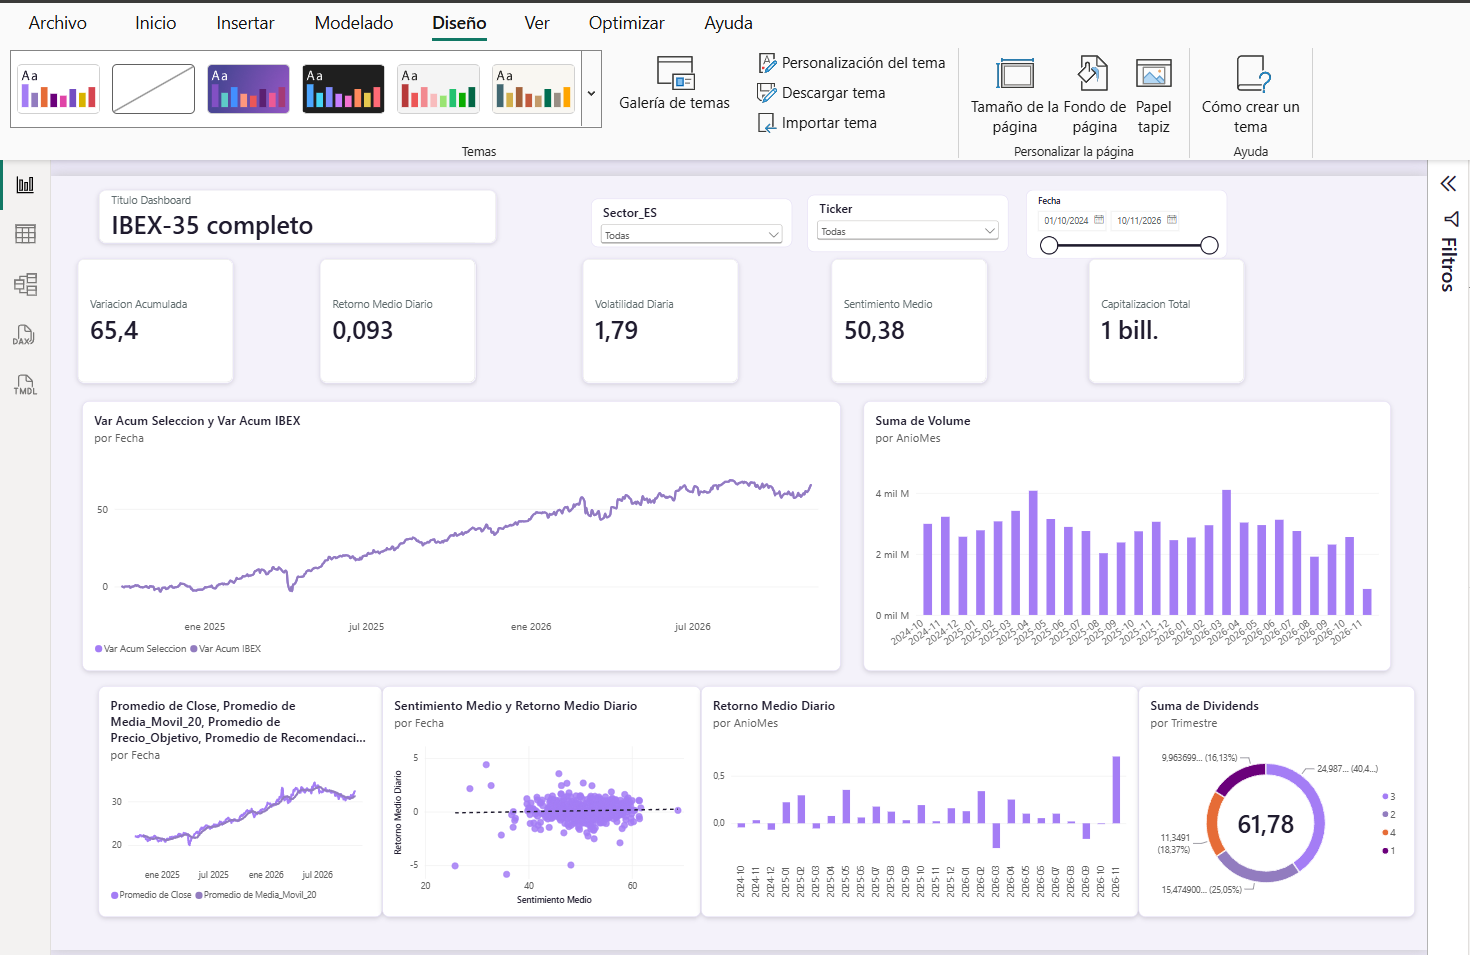

Layout of this report page (visuals, bound fields, positions):
{"tool":"powerbi","page":{"name":"Dashboard","canvas":[1920,1080],"ordinal":3},"visuals":[{"type":"slicer","fields":{"Values":["Empresa.Sector_ES"]},"box":[753.5,31.4,280.8,68],"z":0},{"type":"slicer","fields":{"Values":["Empresa.Ticker"]},"box":[1055.2,26.2,280.8,80.2],"z":1000},{"type":"slicer","fields":{"Values":["Fecha.Fecha"]},"box":[1360.5,19.2,280.8,95.9],"z":2000},{"type":"cardVisual","fields":{"Data":["Hechos.Variacion Acumulada"]},"box":[36.6,115.1,218,174.4],"z":3000},{"type":"cardVisual","fields":{"Data":["Hechos.Retorno Medio Diario"]},"box":[375,115.1,218,174.4],"z":4000},{"type":"cardVisual","fields":{"Data":["Hechos.Volatilidad Diaria"]},"box":[741.3,115.1,218,174.4],"z":5000},{"type":"cardVisual","fields":{"Data":["Hechos.Sentimiento Medio"]},"box":[1088.4,115.1,218,174.4],"z":6000},{"type":"cardVisual","fields":{"Data":["Hechos.Capitalizacion Total"]},"box":[1447.7,115.1,218,174.4],"z":7000},{"type":"lineChart","fields":{"Category":["Fecha.Fecha"],"Y":["Hechos.Var Acum Seleccion","Hechos.Var Acum IBEX"]},"box":[43.6,314,1058.7,376.7],"z":8000},{"type":"clusteredColumnChart","fields":{"Category":["Fecha.AnioMes"],"Y":["Sum(Hechos.Volume)"]},"box":[1133.7,314,736,376.7],"z":9000},{"type":"lineChart","fields":{"Category":["Fecha.Fecha"],"Y":["Avg(Hechos.Close)","Avg(Hechos.Media_Movil_20)"]},"box":[66.3,711.6,395.9,322.7],"z":10000},{"type":"scatterChart","fields":{"Category":["Fecha.Fecha"],"X":["Hechos.Sentimiento Medio"],"Y":["Hechos.Retorno Medio Diario"]},"box":[462.2,711.6,444.8,322.7],"z":11000},{"type":"clusteredColumnChart","fields":{"Category":["Fecha.AnioMes"],"Y":["Hechos.Retorno Medio Diario"]},"box":[907,711.6,610.5,322.7],"z":12000},{"type":"donutChart","fields":{"Category":["Fecha.Trimestre"],"Y":["Sum(Hechos.Dividends)"]},"box":[1517.4,711.6,385.5,322.7],"z":13000},{"type":"cardVisual","fields":{"Data":["Hechos.Titulo Dashboard"]},"box":[66.3,19.2,556.4,75],"z":13001}]}

Visuals, with their boxes on the page's 1920x1080 design canvas (x1, y1, x2, y2). These are canvas units, not pixel positions in the 1470x955 screenshot, which may show the page scaled, cropped or inside an application window:
slicer - Empresa.Sector_ES: left=754, top=31, right=1034, bottom=99
slicer - Empresa.Ticker: left=1055, top=26, right=1336, bottom=106
slicer - Fecha.Fecha: left=1360, top=19, right=1641, bottom=115
cardVisual - Hechos.Variacion Acumulada: left=37, top=115, right=255, bottom=290
cardVisual - Hechos.Retorno Medio Diario: left=375, top=115, right=593, bottom=290
cardVisual - Hechos.Volatilidad Diaria: left=741, top=115, right=959, bottom=290
cardVisual - Hechos.Sentimiento Medio: left=1088, top=115, right=1306, bottom=290
cardVisual - Hechos.Capitalizacion Total: left=1448, top=115, right=1666, bottom=290
lineChart - Fecha.Fecha x Hechos.Var Acum Seleccion: left=44, top=314, right=1102, bottom=691
clusteredColumnChart - Fecha.AnioMes x Sum(Hechos.Volume): left=1134, top=314, right=1870, bottom=691
lineChart - Fecha.Fecha x Avg(Hechos.Close): left=66, top=712, right=462, bottom=1034
scatterChart - Fecha.Fecha x Hechos.Sentimiento Medio: left=462, top=712, right=907, bottom=1034
clusteredColumnChart - Fecha.AnioMes x Hechos.Retorno Medio Diario: left=907, top=712, right=1518, bottom=1034
donutChart - Fecha.Trimestre x Sum(Hechos.Dividends): left=1517, top=712, right=1903, bottom=1034
cardVisual - Hechos.Titulo Dashboard: left=66, top=19, right=623, bottom=94
